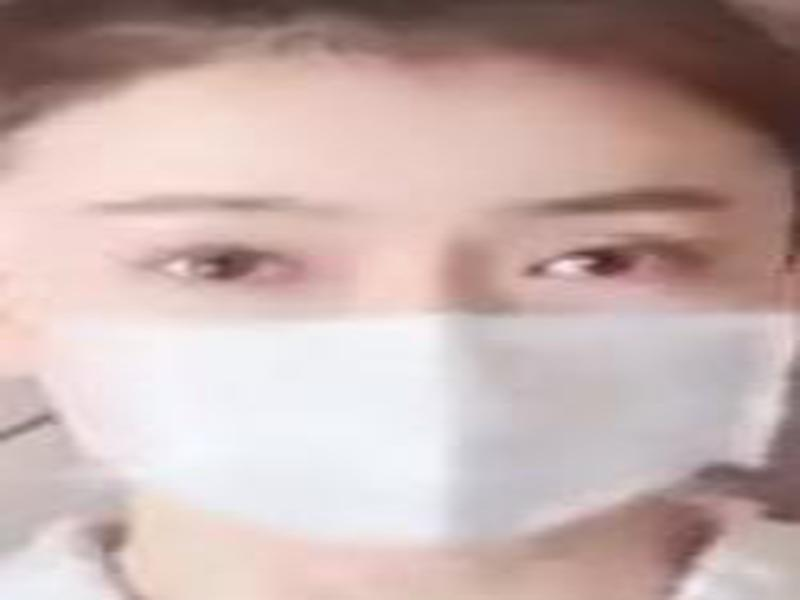with_mask: (1, 60, 796, 562)
